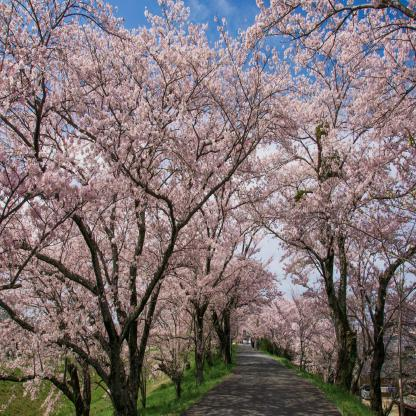Someiyoshino: (2, 3, 237, 376), (240, 3, 416, 250), (350, 259, 415, 383), (244, 289, 330, 367)
